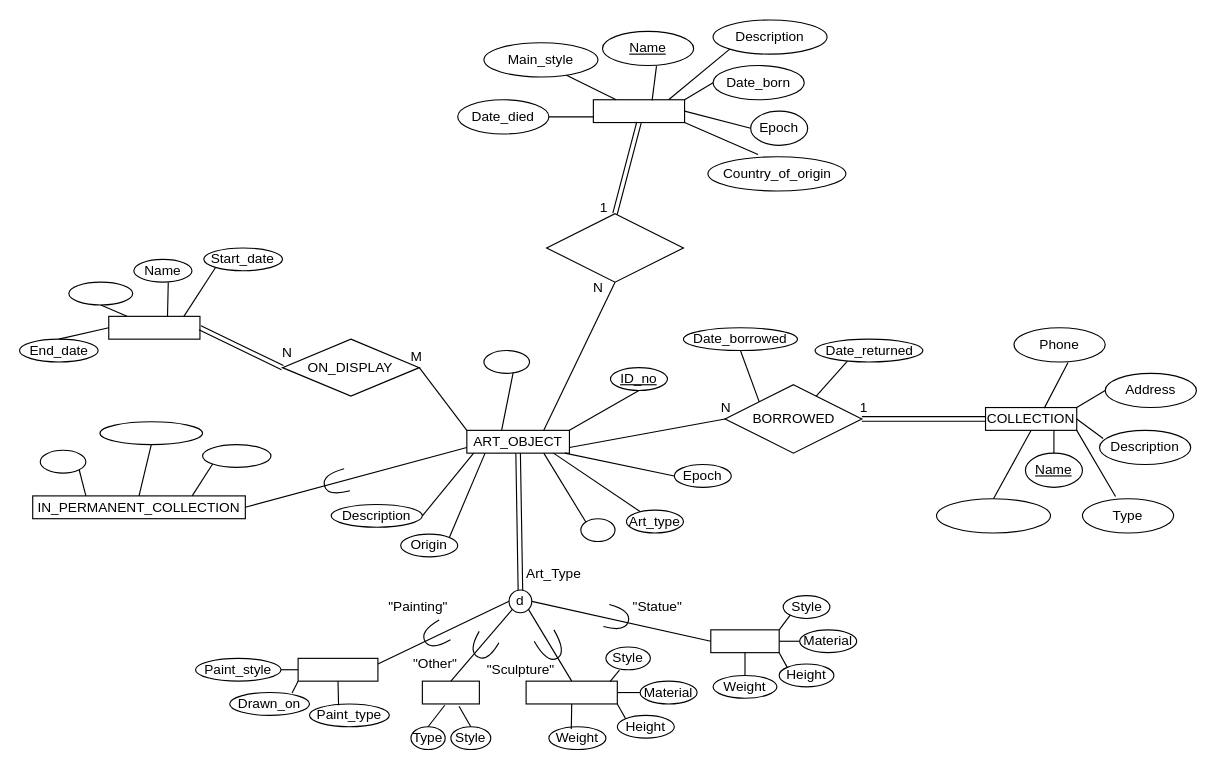
Image size: 1218x770. Some labels were removed from this diagram. Here are the shapes that lost their labels. From the top down, the centre of each, then its label:
At [638,111]: "ARTIST".
At [614,247]: "CREATED_BY".
At [100,293]: "E_id".
At [154,327]: "EXHIBITION".
At [506,361]: "Year".
At [151,433]: "Date_acquired".
At [62,461]: "Cost".
At [236,455]: "Status".
At [597,530]: "Title".
At [993,515]: "Contact_person".
At [744,641]: "STATUE".
At [337,669]: "PAINTING".
At [450,692]: "OTHER".
At [571,692]: "SCULPTURE".
